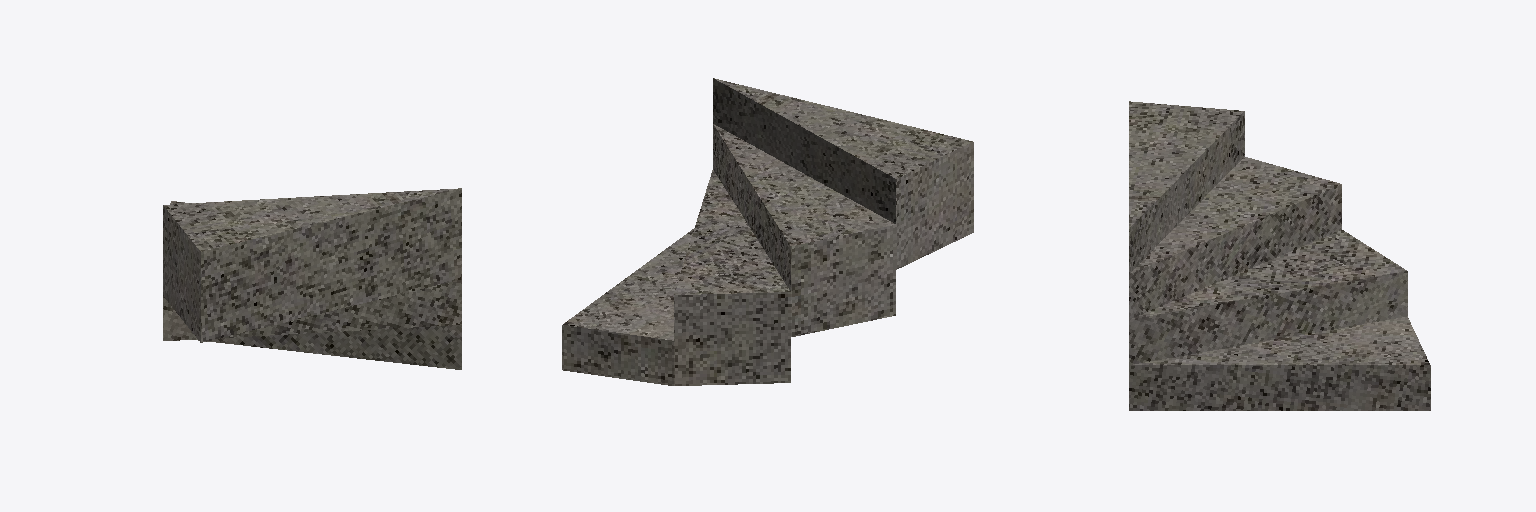
The picture shows the model from 3 angles: view 1: azimuth 30°, elevation 25°; view 2: azimuth 150°, elevation 25°; view 3: azimuth 270°, elevation 25°; orthographic projection.
Size of the model in its own units: 1 by 0.6667 by 1.
Materials: 1 (1 with a texture image).